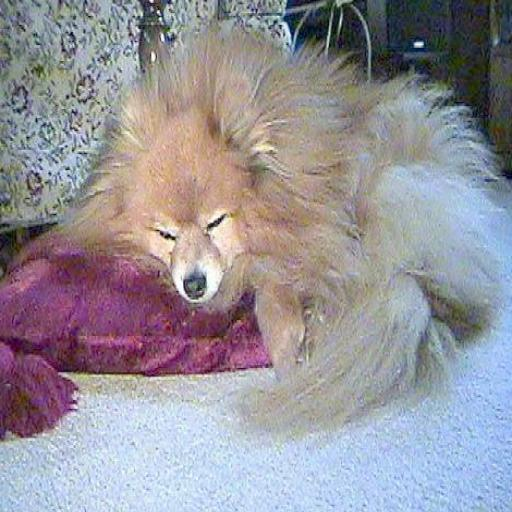dog_face: (119, 128, 252, 298)
